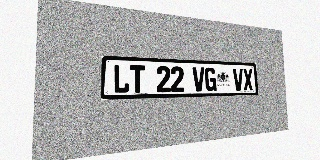2: (157, 66, 171, 92), (171, 66, 184, 92)
G: (205, 67, 217, 91)
L: (113, 64, 129, 93)
T: (130, 65, 145, 93)
V: (192, 67, 205, 92), (233, 68, 244, 91)
X: (243, 69, 253, 90)
